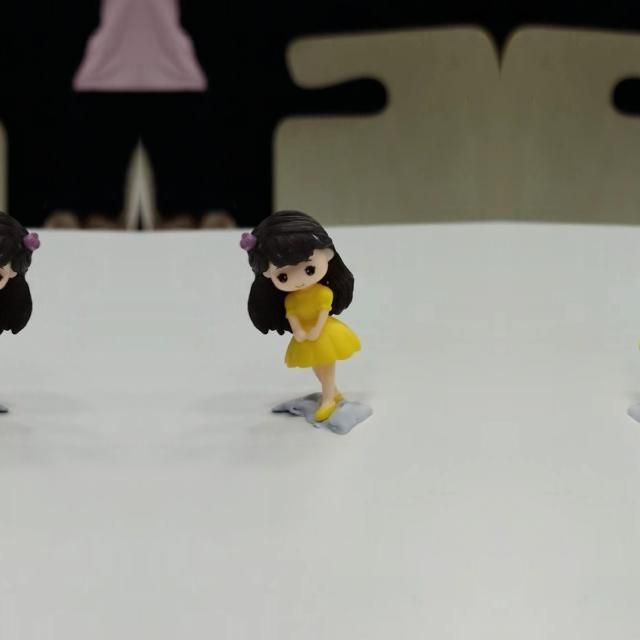woman head: (232, 212, 342, 298), (0, 212, 48, 297)
